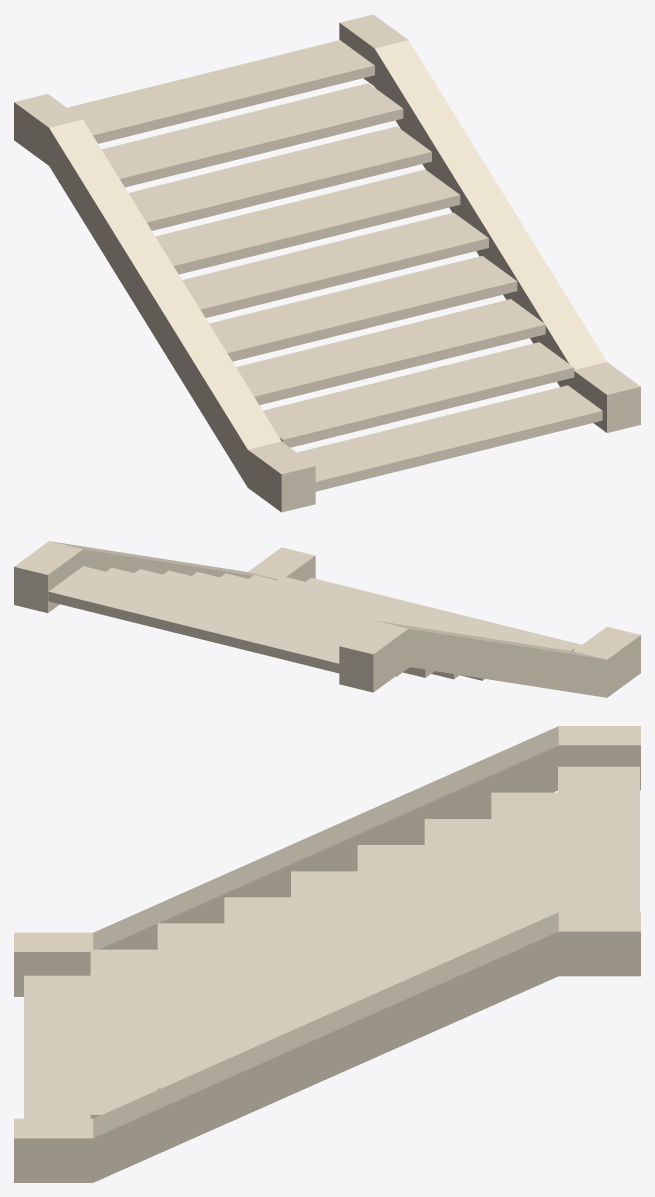
The model's file is SM_stair_01.glb.
3 renders of one model, top to bottom at view 1: azimuth 30°, elevation 25°; view 2: azimuth 150°, elevation 25°; view 3: azimuth 270°, elevation 25°, orthographic. The views are drawn at different scales.
Parts seen in each view (by area): view 1: SM_stair_01; view 2: SM_stair_01; view 3: SM_stair_01.
Boxes of the visible parts, x1,y1,x2,y2 form: SM_stair_01: [14, 14, 640, 512]; SM_stair_01: [14, 541, 640, 697]; SM_stair_01: [14, 726, 640, 1182].
Bounding box in the file's own units: 3.2 × 1.83 × 4.13.
